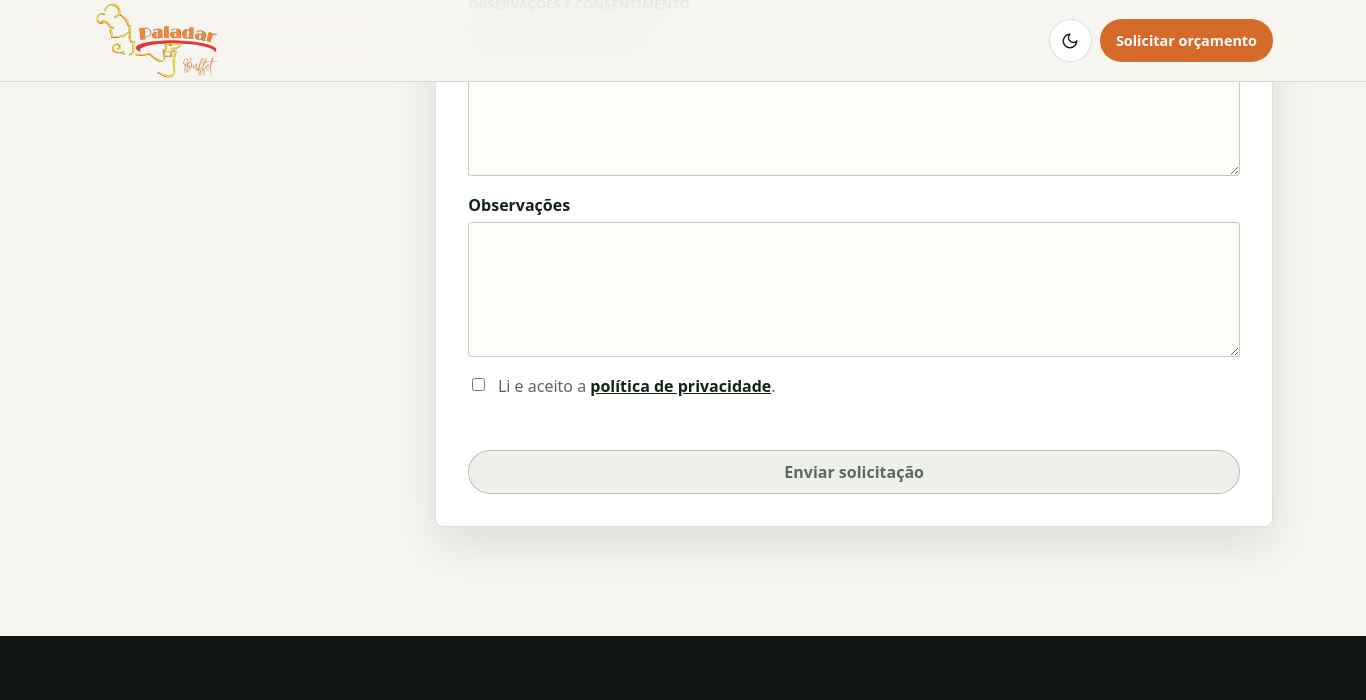
Test: QuotePage › keeps submit disabled until privacy consent is accepted
This screenshot has width=1366, height=700.
(page scrolled)
Expected: the button "Enviar solicitação" is disabled, [468, 450, 1240, 494]
Click the checkbox labelled "Li e aceito a política de privacidade .".
click(479, 384)  # box [472, 378, 485, 391]
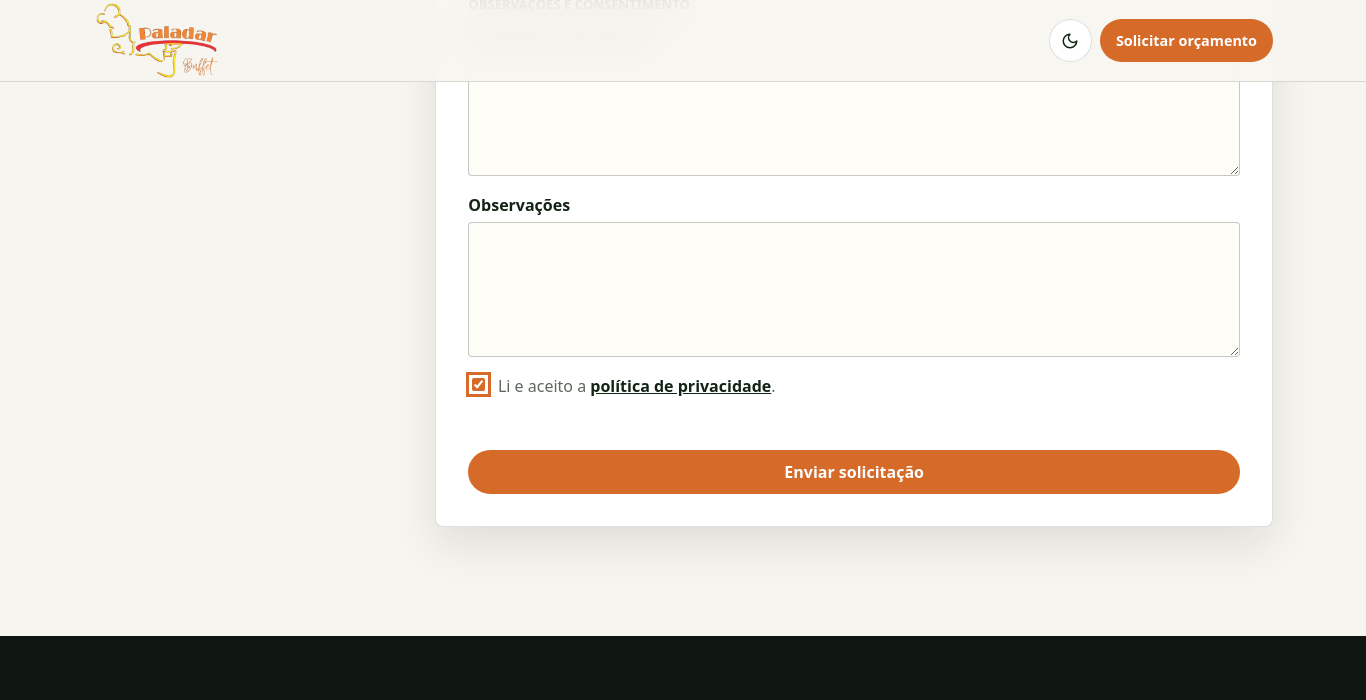
Expected: the button "Enviar solicitação" is enabled, [468, 450, 1240, 494]
